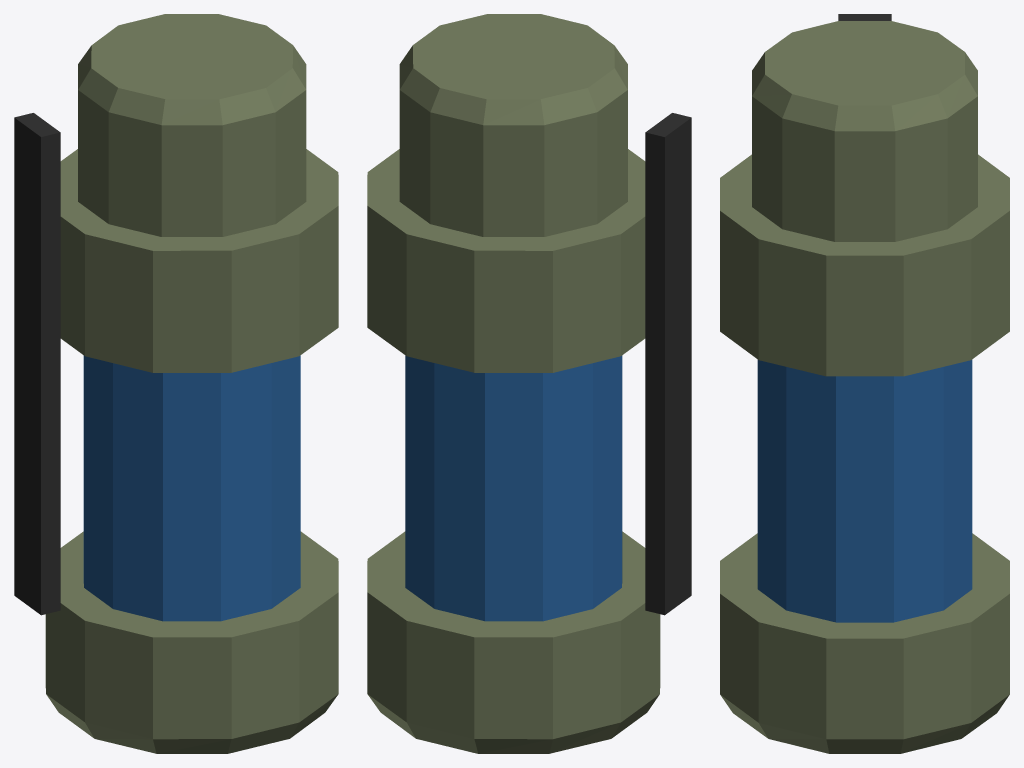
The model's file is ce_handgren_flashbang.obj.
3 renders of one model, left to right at view 1: azimuth 30°, elevation 25°; view 2: azimuth 150°, elevation 25°; view 3: azimuth 270°, elevation 25°, orthographic.
Visible parts, largest first — view 1: ce_handgren_flashbang_core, ce_handgren_flashbang_cap, ce_handgren_flashbang_rim_low, ce_handgren_flashbang_rim_up, ce_handgren_flashbang_spoon; view 2: ce_handgren_flashbang_core, ce_handgren_flashbang_cap, ce_handgren_flashbang_rim_low, ce_handgren_flashbang_rim_up, ce_handgren_flashbang_spoon; view 3: ce_handgren_flashbang_core, ce_handgren_flashbang_cap, ce_handgren_flashbang_rim_up, ce_handgren_flashbang_rim_low.
Boxes of the visible parts, x1,y1,x2,y2 form: ce_handgren_flashbang_core: (83,355,300,621); ce_handgren_flashbang_cap: (78,14,306,236); ce_handgren_flashbang_rim_low: (45,531,338,753); ce_handgren_flashbang_rim_up: (60,149,338,372); ce_handgren_flashbang_spoon: (14,113,60,615); ce_handgren_flashbang_core: (405,355,622,621); ce_handgren_flashbang_cap: (399,14,627,236); ce_handgren_flashbang_rim_low: (367,531,660,753); ce_handgren_flashbang_rim_up: (367,149,645,372); ce_handgren_flashbang_spoon: (645,113,691,615); ce_handgren_flashbang_core: (757,360,972,622); ce_handgren_flashbang_cap: (752,21,977,241); ce_handgren_flashbang_rim_up: (720,154,1009,376); ce_handgren_flashbang_rim_low: (720,533,1009,753).
Bounding box in the file's own units: 0.0749 × 0.1575 × 0.0652.
